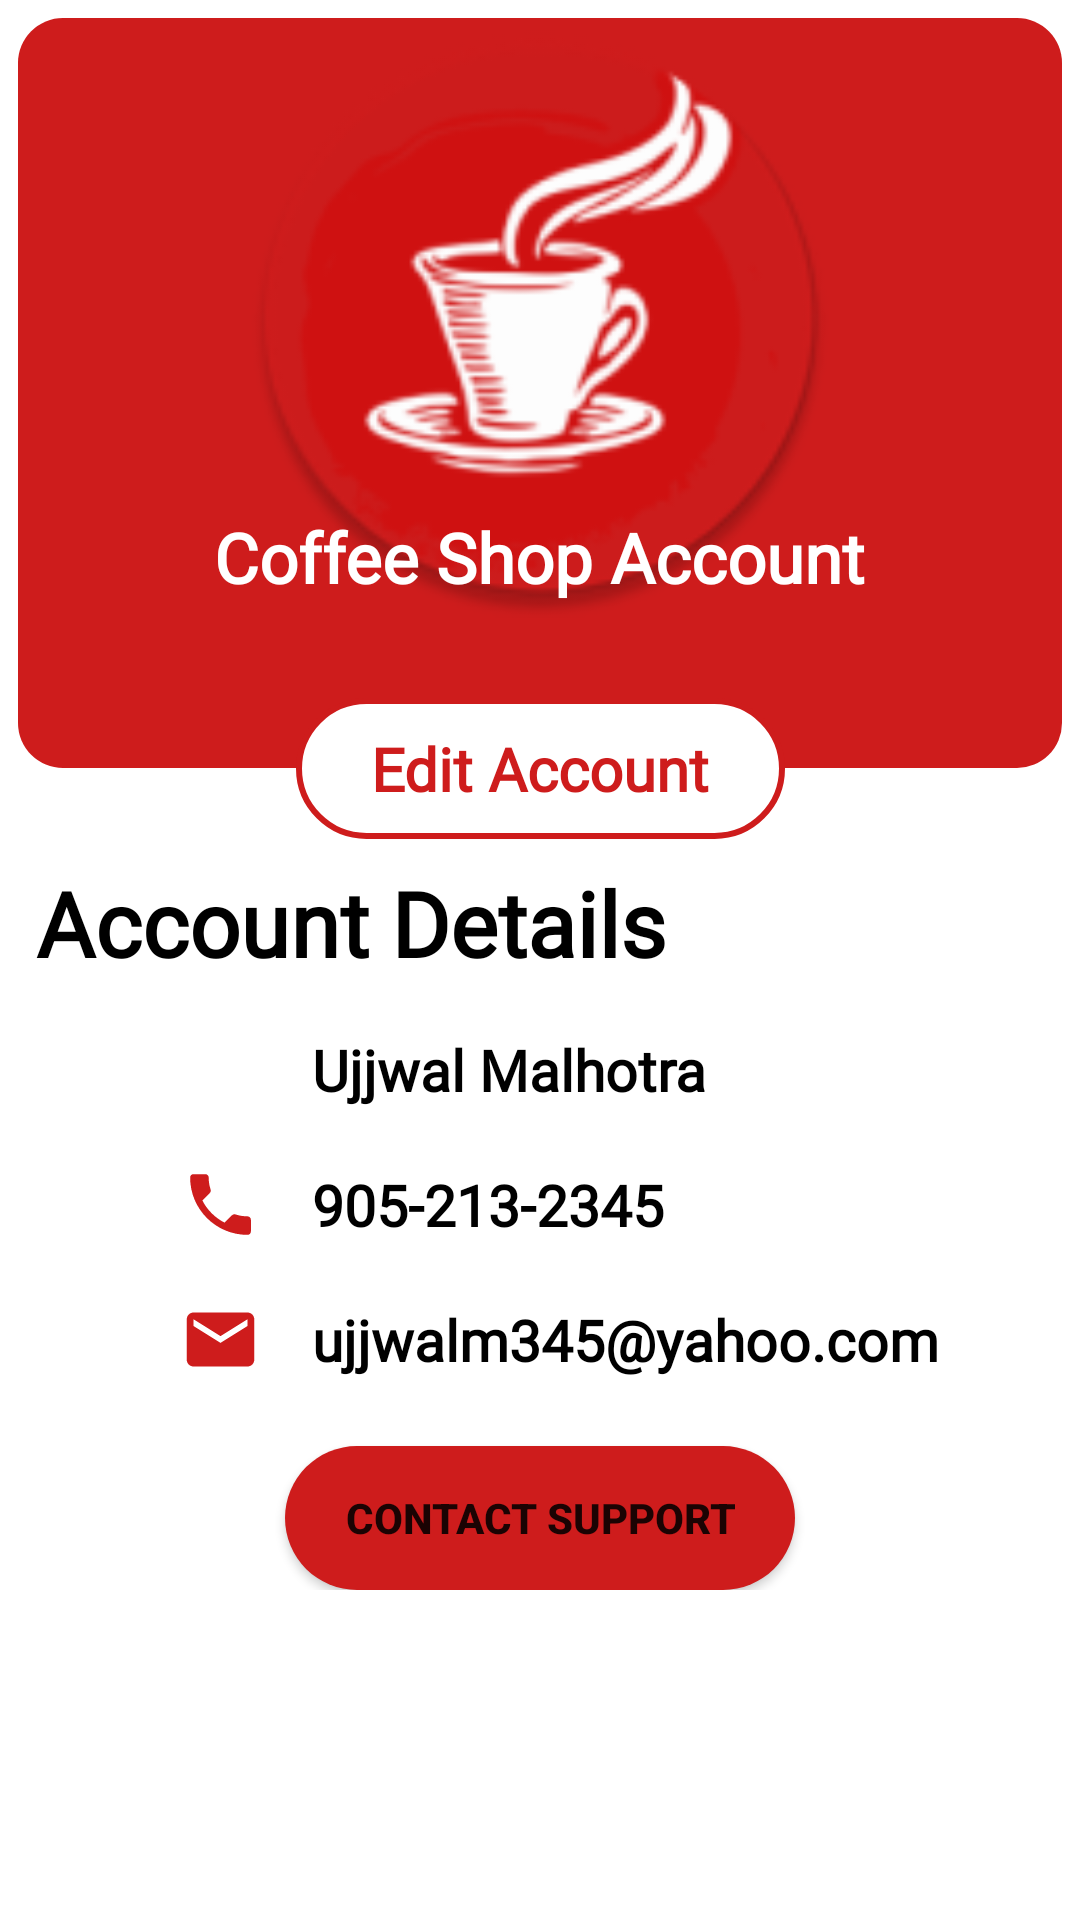

Where to tap for icons on this 1080 x 1920 app screen, as (x=x, y=y):
email: (x=220, y=1339)
phone: (x=220, y=1204)
